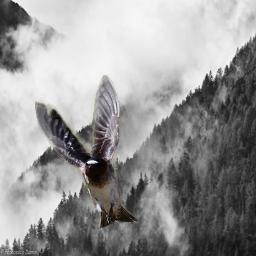Swallow: (35, 75, 139, 228)
